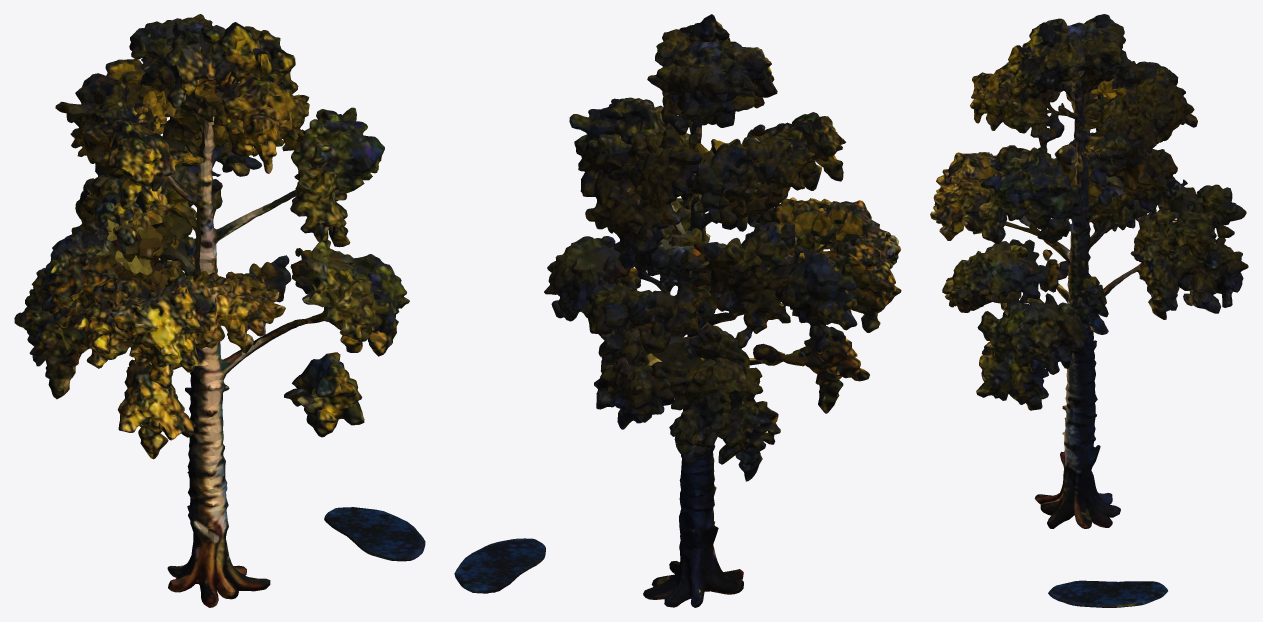
The model's file is birch_paint.glb.
The picture shows the model from 3 angles, left to right: view 1: azimuth 30°, elevation 25°; view 2: azimuth 150°, elevation 25°; view 3: azimuth 270°, elevation 25°; orthographic projection. The views are drawn at different scales.
Visible parts, largest first — view 1: temp_mesh.ply; view 2: temp_mesh.ply; view 3: temp_mesh.ply.
Boxes of the visible parts, <box> form: temp_mesh.ply: <box>14,14,425,607</box>; temp_mesh.ply: <box>454,14,901,607</box>; temp_mesh.ply: <box>930,14,1248,607</box>.
Size of the model in its own units: 1.36 by 1.96 by 1.14.
1 material, 1 textured.
